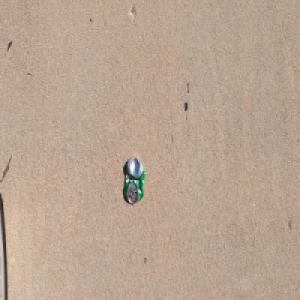SodaCan: (123, 156, 145, 205)
